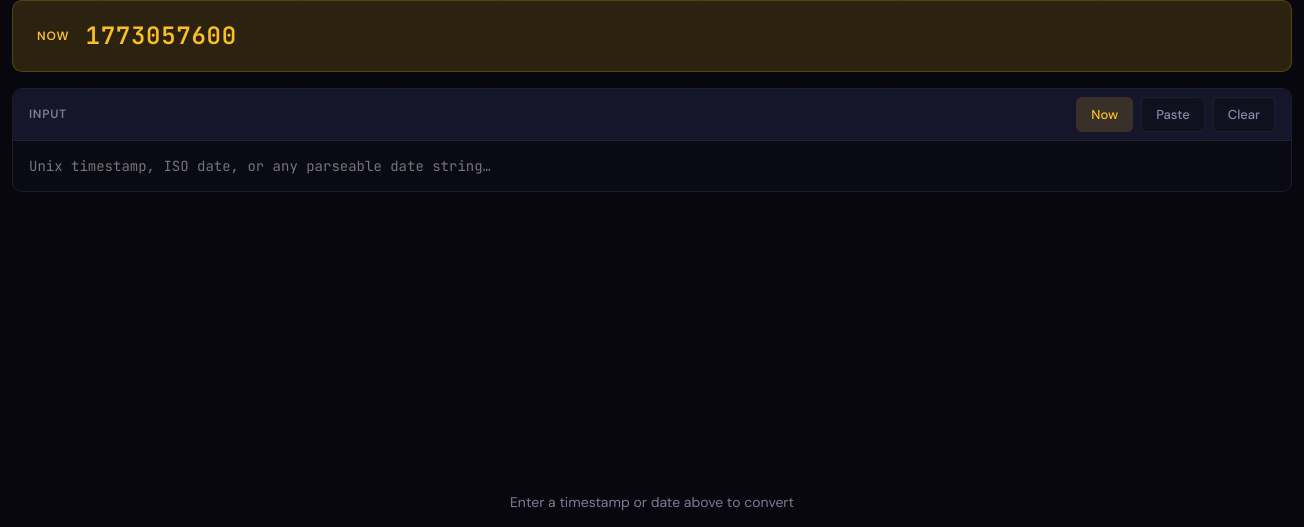
TimestampConverter › converts ISO date string
Type "2024-01-01T00:00:00Z" into the field named "timestamp or date input" at (652, 166), box [13,141,1291,191]
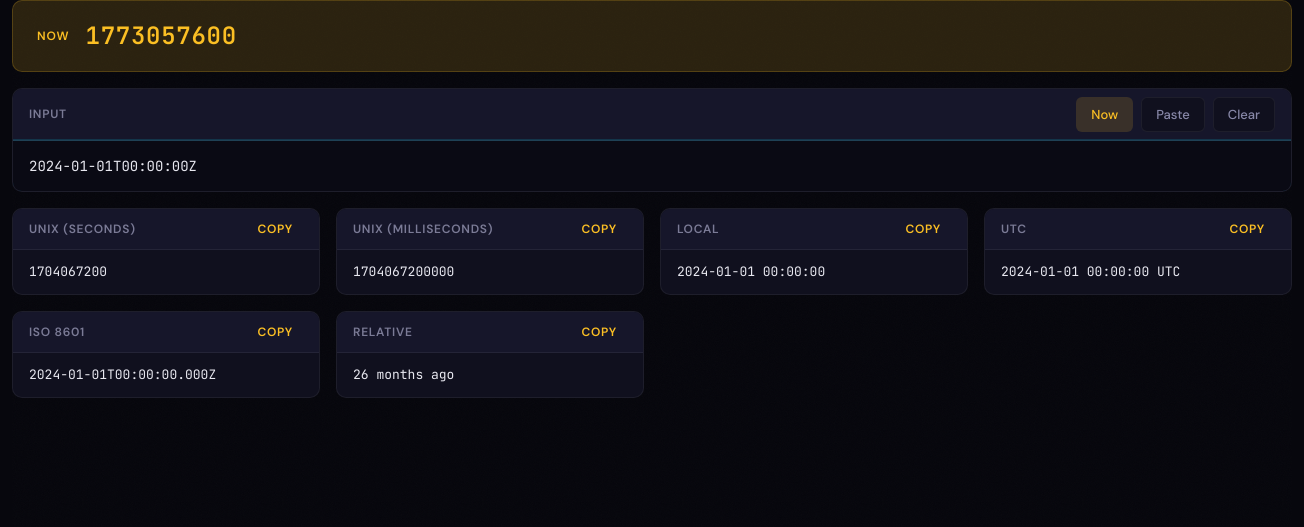
Check: the text "1704067200" is shown, box [29,263,107,280]
